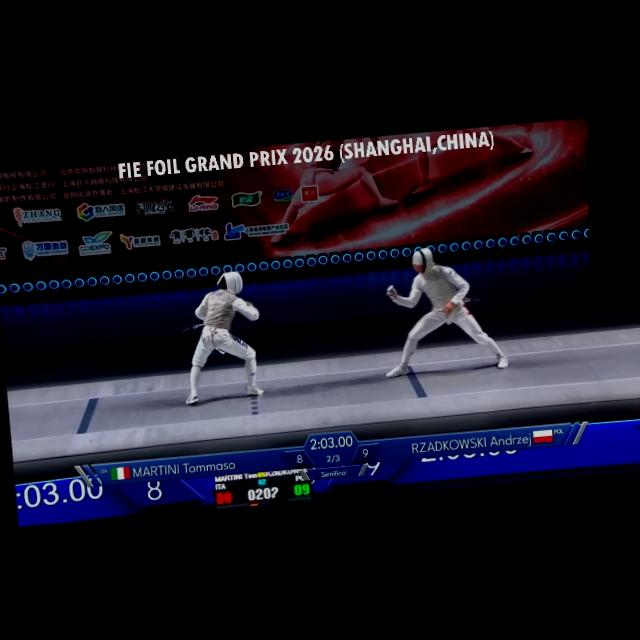blade: (336, 229, 396, 300)
